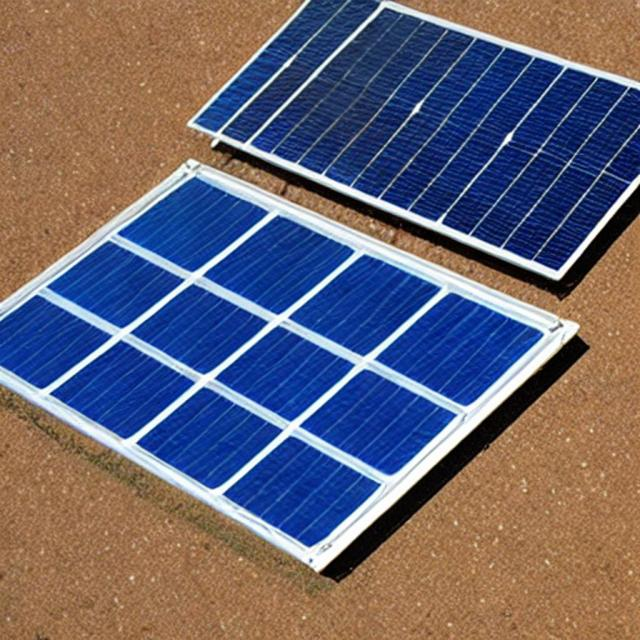no faulty: (0, 175, 545, 542), (194, 2, 638, 278)
